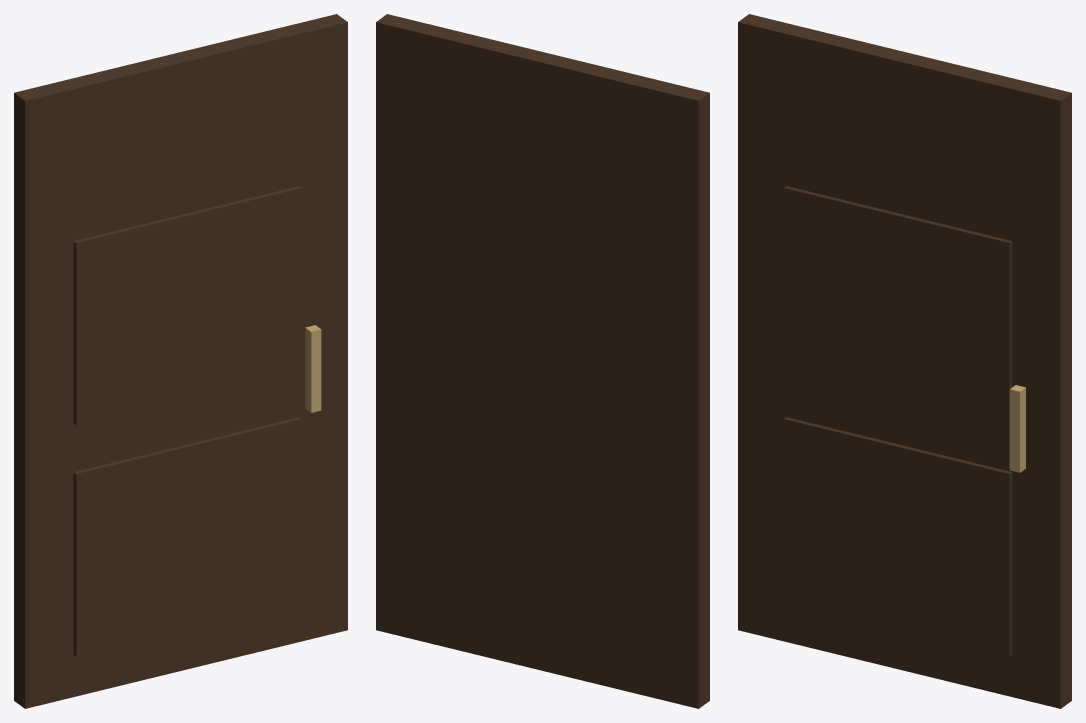
Rendered from SM_Malikane_Kapi_L.fbx.
3 views of the same model, side by side, from view 1: azimuth 30°, elevation 25°; view 2: azimuth 150°, elevation 25°; view 3: azimuth 330°, elevation 25° (orthographic).
Parts seen in each view (by area): view 1: Malikane_Kapi_L; view 2: Malikane_Kapi_L; view 3: Malikane_Kapi_L.
Boxes of the visible parts, x1,y1,x2,y2 form: Malikane_Kapi_L: [14, 14, 347, 708]; Malikane_Kapi_L: [376, 14, 709, 708]; Malikane_Kapi_L: [738, 14, 1071, 708].
Size of the model in its own units: 250 by 450 by 24.5.
